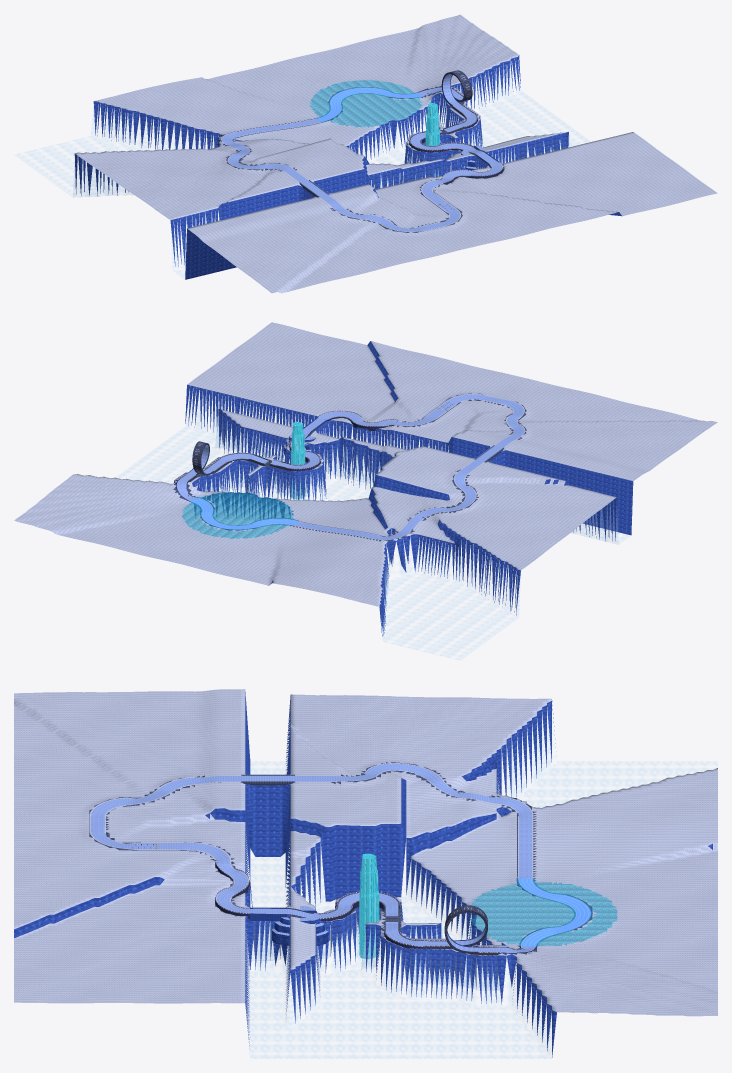
3 views of the same model, one above another, from view 1: azimuth 30°, elevation 25°; view 2: azimuth 150°, elevation 25°; view 3: azimuth 270°, elevation 25° (orthographic). The views are drawn at different scales.
Visible parts, largest first — view 1: Land, Road 16 climb, Road 15 lake, Loop, Road 05 cathedral, Road 02 ledge, Monolith, Road 19 snowfield, Road 20 snowfield; view 2: Land, Road 16 climb, Road 15 lake, Monolith, Road 02 ledge, Loop, Road 20 snowfield; view 3: Land, Road 16 climb, Road 15 lake, Monolith, Road 02 ledge, Road 19 snowfield, Glacier Face, Loop, Road 05 cathedral, Road 20 snowfield, Road 01 snowfield, Road 17 greatbridge.
Part boxes in pixels (x1=…): Land: x1=15, y1=14, x2=717, y2=293; Road 16 climb: x1=221, y1=118, x2=321, y2=182; Road 15 lake: x1=316, y1=86, x2=422, y2=122; Loop: x1=441, y1=70, x2=472, y2=106; Road 05 cathedral: x1=409, y1=132, x2=474, y2=154; Road 02 ledge: x1=436, y1=161, x2=503, y2=184; Monolith: x1=425, y1=103, x2=439, y2=176; Road 19 snowfield: x1=336, y1=209, x2=416, y2=232; Road 20 snowfield: x1=414, y1=202, x2=461, y2=231; Land: x1=14, y1=322, x2=717, y2=659; Road 16 climb: x1=293, y1=460, x2=484, y2=540; Road 15 lake: x1=189, y1=497, x2=299, y2=529; Monolith: x1=291, y1=421, x2=305, y2=498; Road 02 ledge: x1=318, y1=410, x2=398, y2=430; Loop: x1=188, y1=441, x2=214, y2=475; Road 20 snowfield: x1=437, y1=393, x2=515, y2=410; Land: x1=14, y1=689, x2=717, y2=1058; Road 16 climb: x1=295, y1=763, x2=533, y2=878; Road 15 lake: x1=516, y1=878, x2=592, y2=946; Monolith: x1=359, y1=853, x2=379, y2=959; Road 02 ledge: x1=215, y1=861, x2=249, y2=919; Road 19 snowfield: x1=91, y1=777, x2=195, y2=813; Glacier Face: x1=271, y1=906, x2=330, y2=945; Loop: x1=444, y1=905, x2=487, y2=953; Road 05 cathedral: x1=316, y1=891, x2=399, y2=924; Road 20 snowfield: x1=89, y1=810, x2=156, y2=850; Road 01 snowfield: x1=156, y1=842, x2=231, y2=862; Road 17 greatbridge: x1=241, y1=774, x2=294, y2=785.
Size of the model in its own units: 840 by 130 by 840.
Materials: 17 (17 with a texture image).
